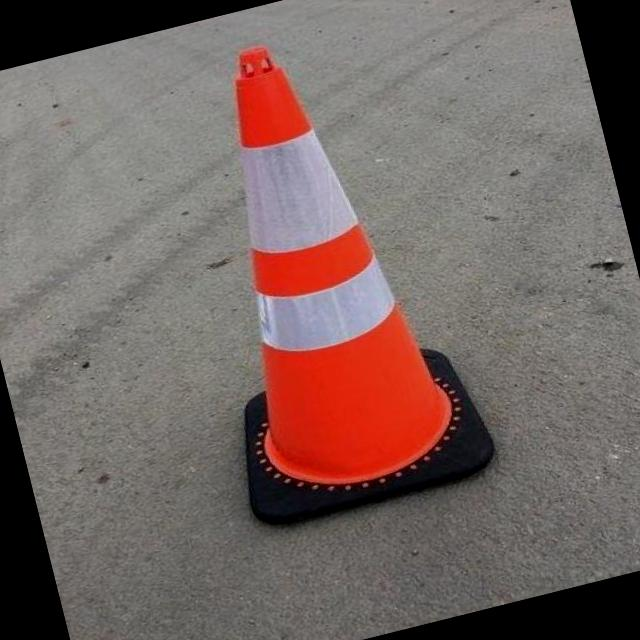Cone: (140, 14, 502, 528)
